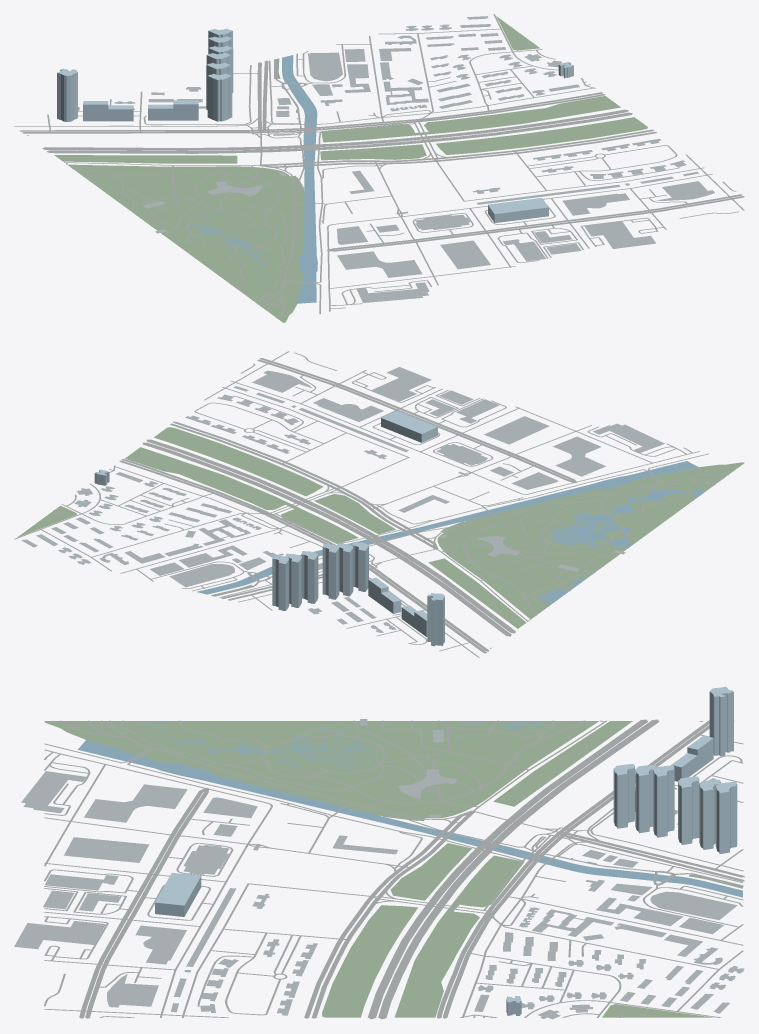
Rendered from 1_-3-known-coarse.glb.
3 renders of one model, top to bottom at view 1: azimuth 30°, elevation 25°; view 2: azimuth 150°, elevation 25°; view 3: azimuth 270°, elevation 25°, orthographic. The views are drawn at different scales.
Size of the model in its own units: 1013 by 96 by 1042.
